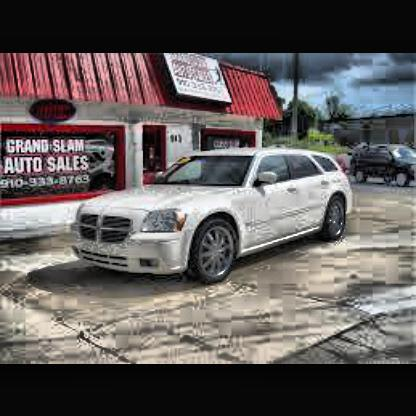Dodge Magnum Wagon 2008: (71, 146, 355, 292)
